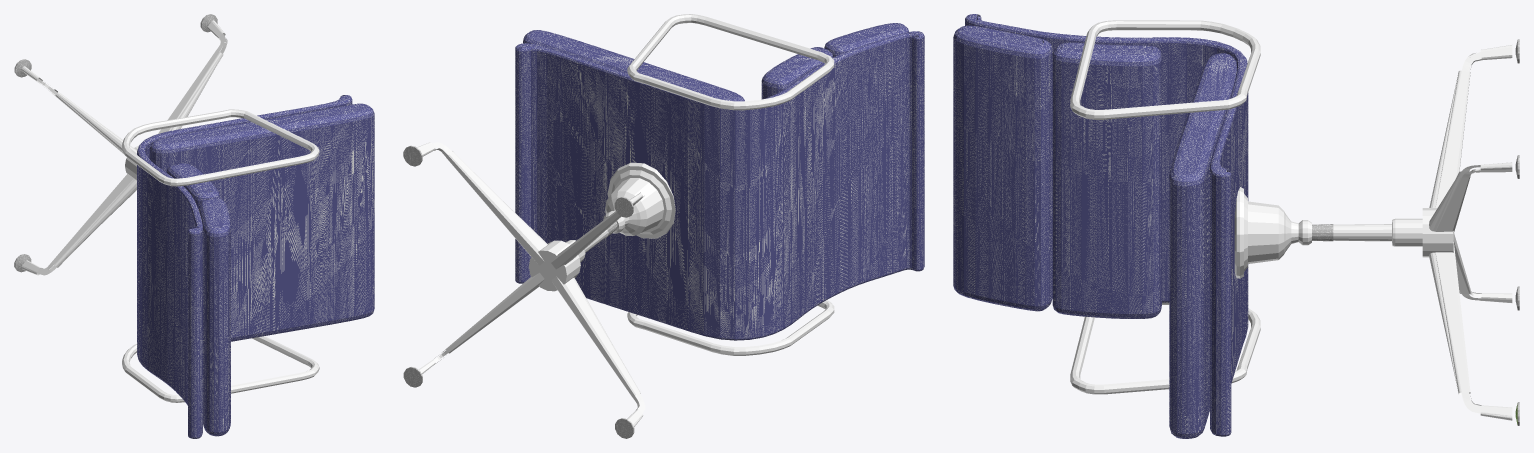
3 views of the same model, side by side, from view 1: azimuth 30°, elevation 25°; view 2: azimuth 150°, elevation 25°; view 3: azimuth 270°, elevation 25° (orthographic). The views are drawn at different scales.
Parts seen in each view (by area): view 1: chair; view 2: chair; view 3: chair.
Boxes of the visible parts, <box> form: chair: <box>14,14,374,438</box>; chair: <box>403,14,924,438</box>; chair: <box>953,14,1519,438</box>.
Size of the model in its own units: 24.6 by 19.66 by 35.59.
